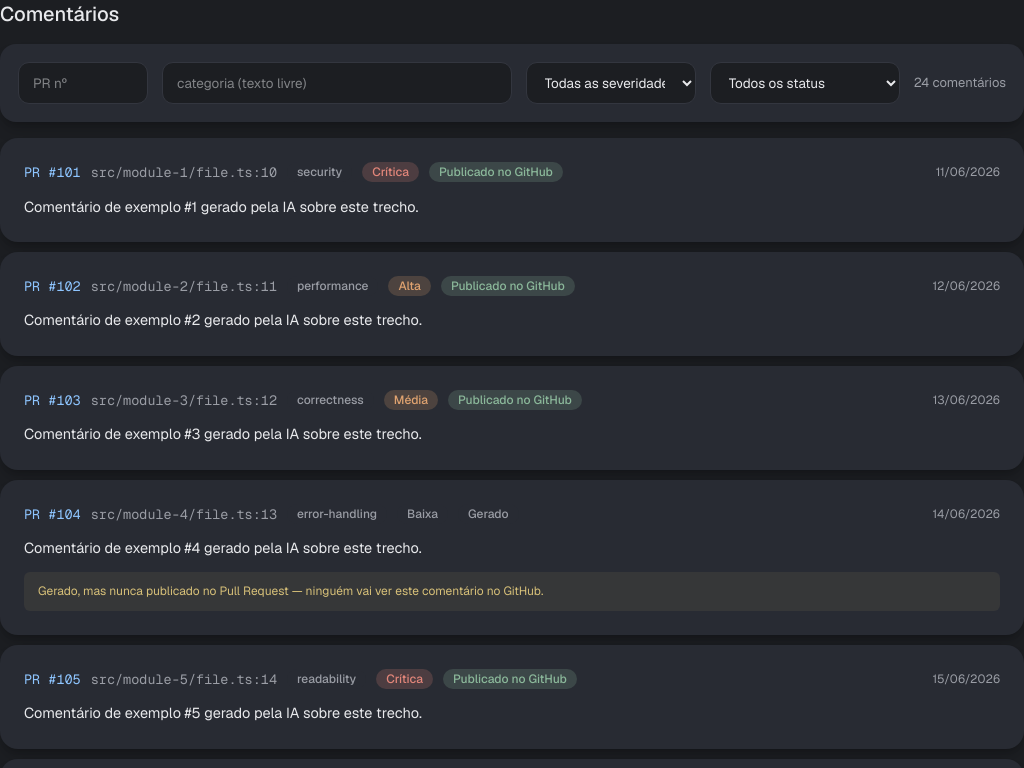
it: CommentsPage › filters by status and shows the correct badge label
Expected: the text "24 comentários" is shown, [914,73,1006,93]
Select "Descartado" in the dropdown named "Filtrar por status". click: (805, 83)
box: [710,62,900,104]
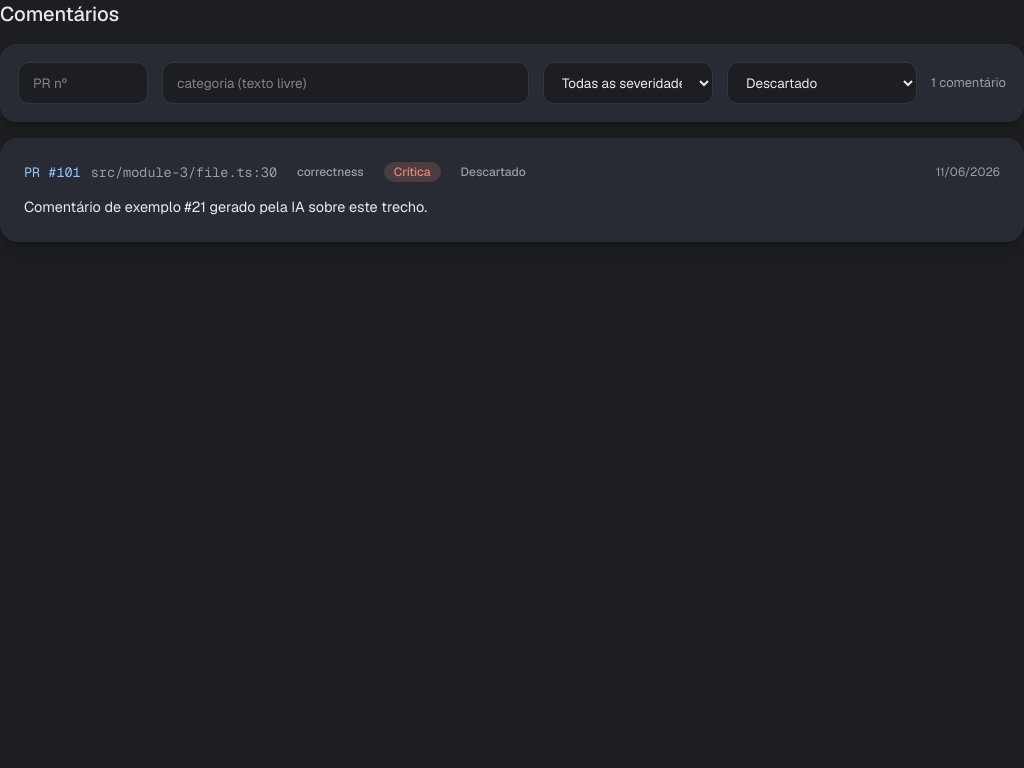
Expected: the text "1 comentário" is shown, [931,73,1006,93]
Expected: the text "Descartado" is shown, [451,162,536,182]
